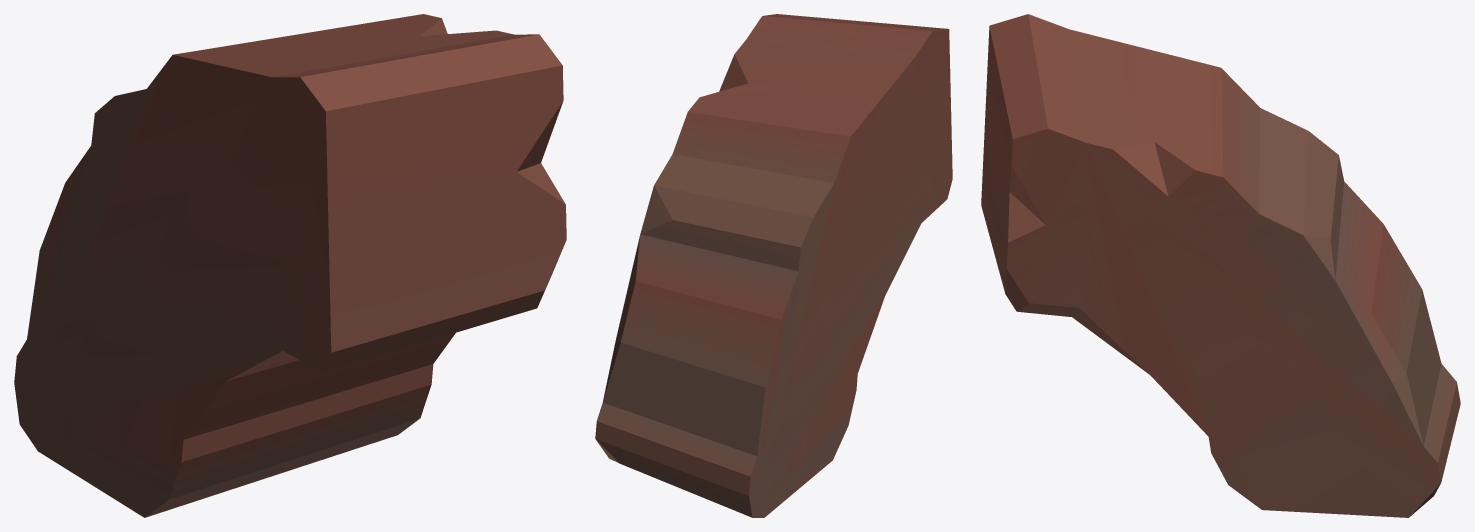
File: SuperGrid_RingQuarter_009_Vlad.fbx
3 views of the same model, side by side, from view 1: azimuth 30°, elevation 25°; view 2: azimuth 150°, elevation 25°; view 3: azimuth 270°, elevation 25° (orthographic). The views are drawn at different scales.
Parts seen in each view (by area): view 1: SuperGrid_RingQuarter.009; view 2: SuperGrid_RingQuarter.009; view 3: SuperGrid_RingQuarter.009.
Boxes of the visible parts, x1,y1,x2,y2 form: SuperGrid_RingQuarter.009: (14,14,566,517); SuperGrid_RingQuarter.009: (595,14,952,517); SuperGrid_RingQuarter.009: (981,14,1460,517).
Size of the model in its own units: 10000 by 21434 by 21756.
